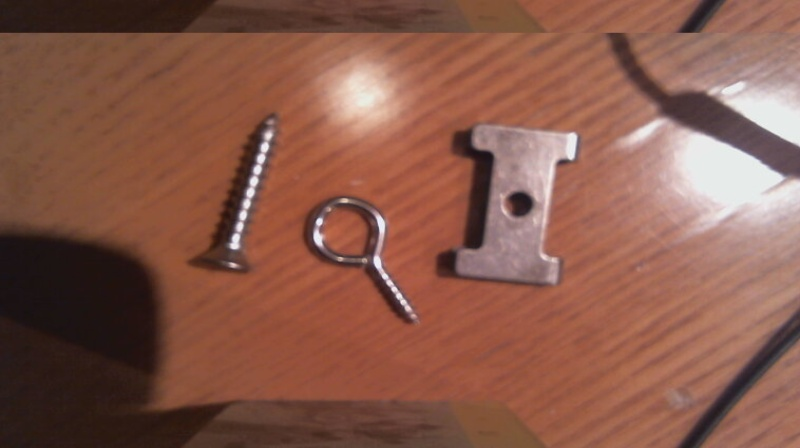O001: (299, 192, 426, 330)
O002: (448, 121, 581, 291)
S001: (195, 110, 287, 278)
